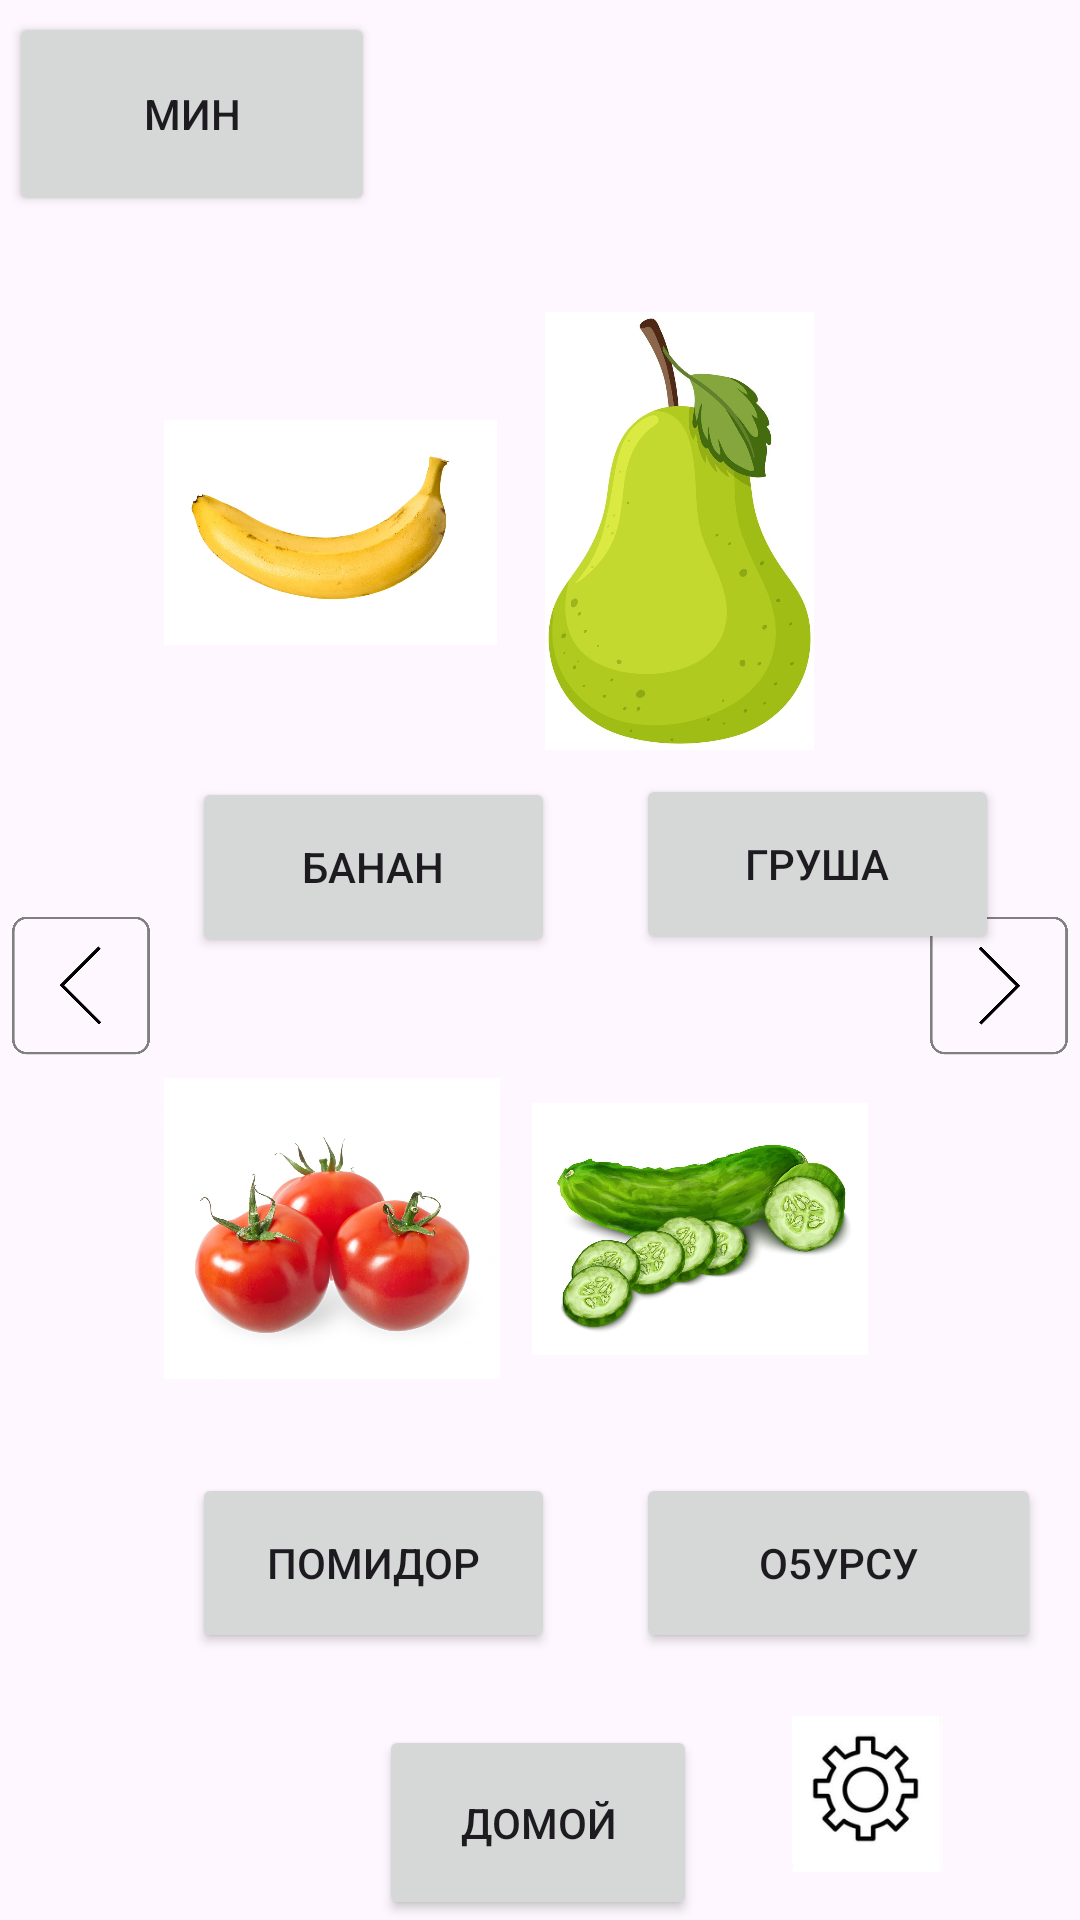

Icon click points for this 1080×1920 phone screenshot, format (x=x, y=y):
banana: (x=320, y=528)
left: (x=81, y=986)
right: (x=999, y=977)
settings: (x=865, y=1789)
tomato: (x=332, y=1235)
